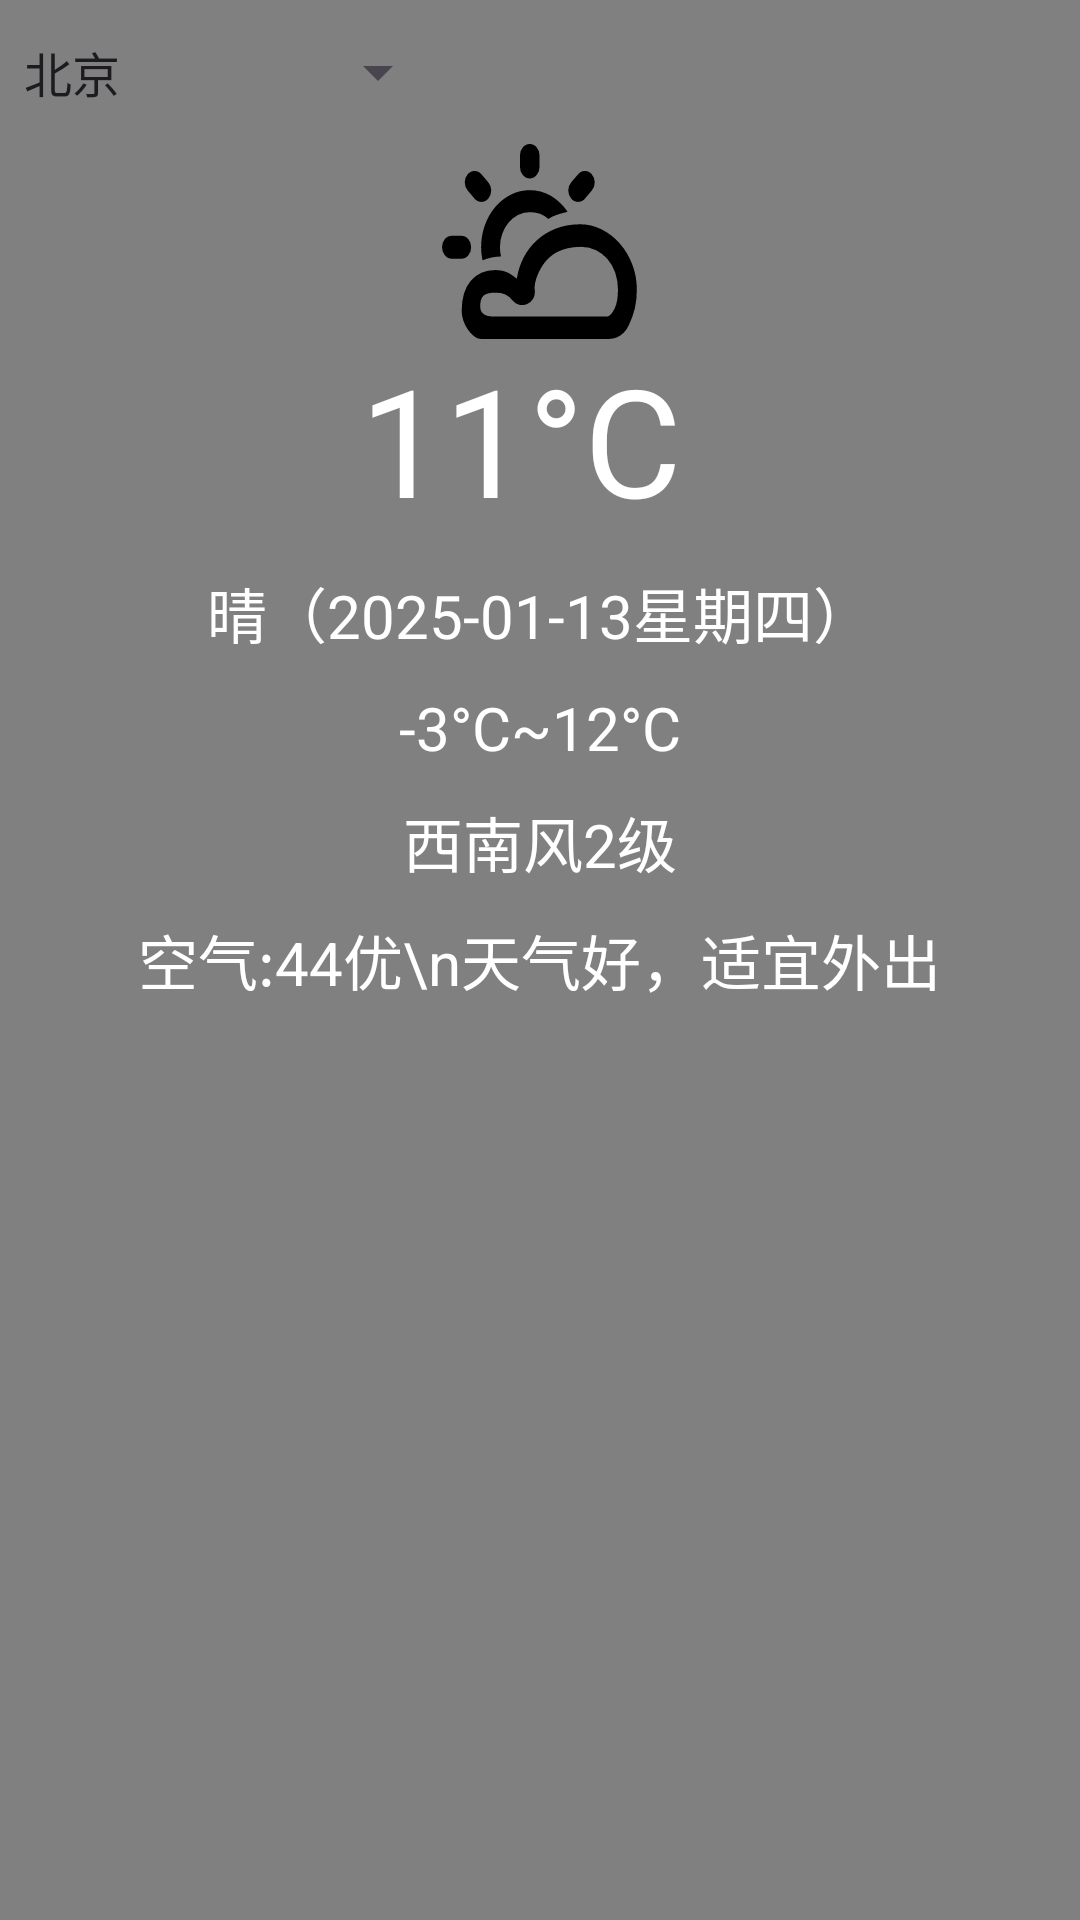

Where icons sit on this 1080w x 1920h app screen, as [left=x1, top=y1, right=x2, bottom=y2]:
yun: [left=442, top=144, right=637, bottom=339]
